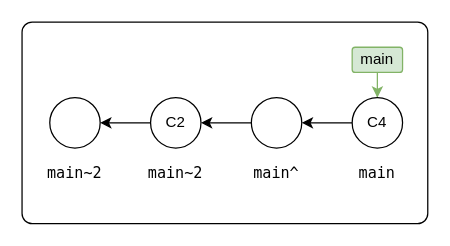
Image size: 450x246. Some labels were removed from this diagram. Here are the shapes that lost their labels. From the top down, the centre of each, then its label:
At (x=74, y=122): "C1".
At (x=276, y=122): "C3".
